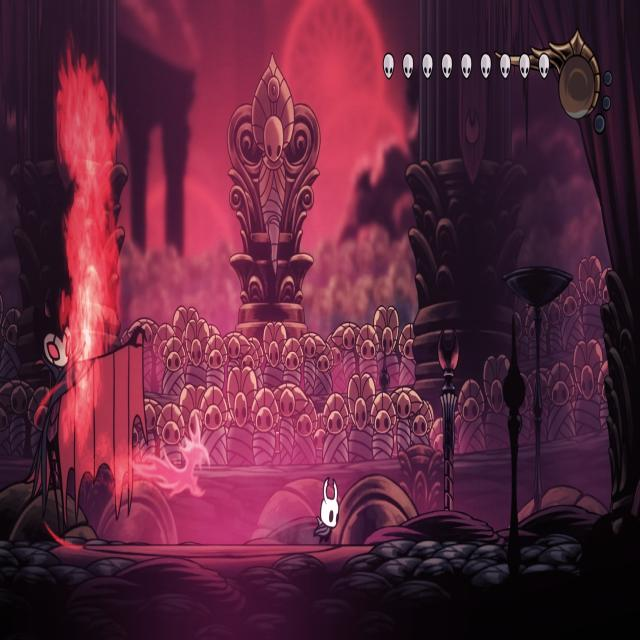Fire Bat: (132, 412, 206, 496)
Open Cloak: (22, 302, 150, 544)
Player: (312, 471, 340, 548)
